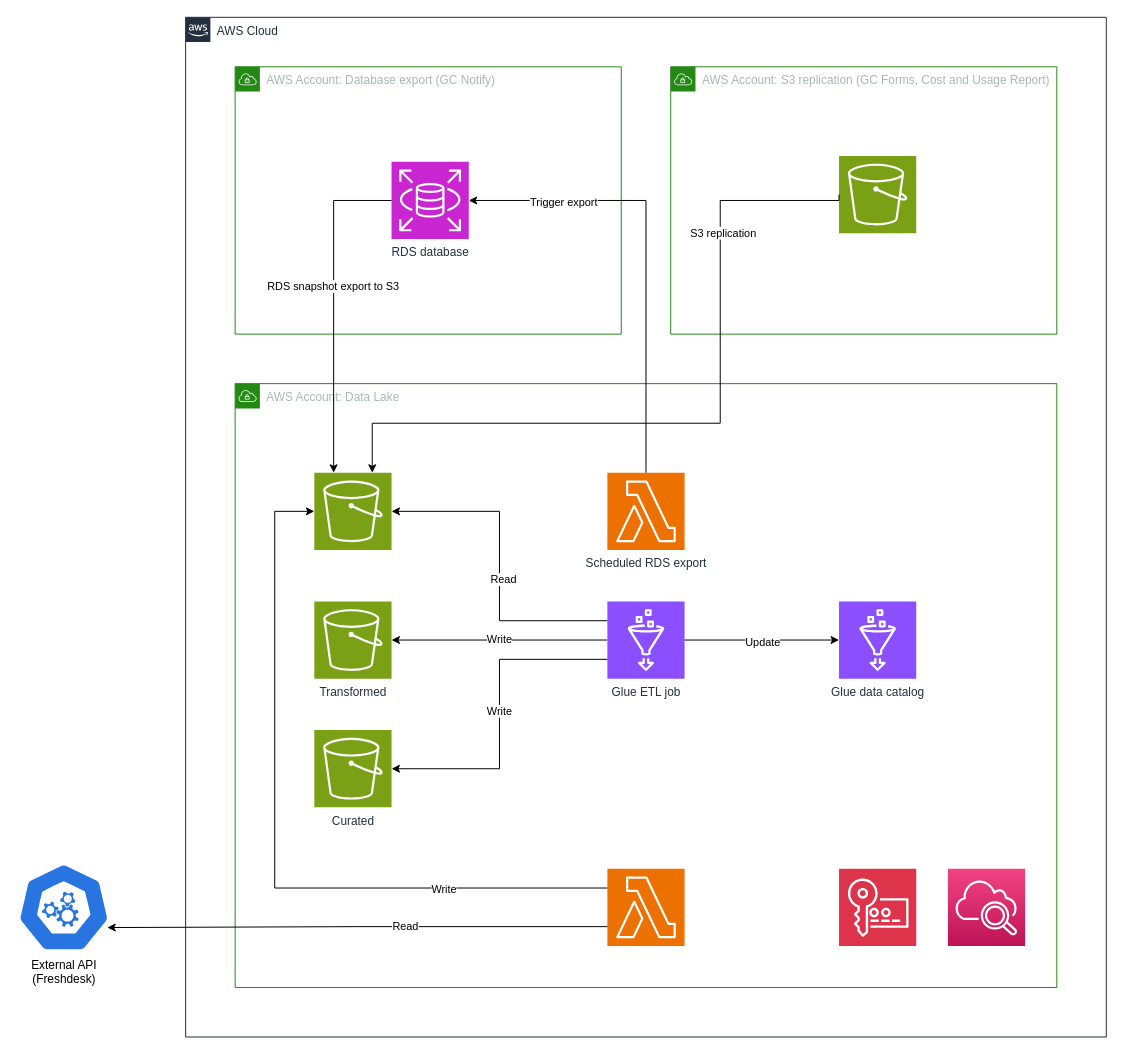
The diagram is 1124 pixels wide and 1054 high, and some of its shapes have lost their labels. The shapes that lost their labels are listed below. From the top down, each one's centre as x and y in pixels, then its label:
At point (877, 194): "S3 data source".
At point (352, 511): "Raw".
At point (645, 907): "Scheduled read".
At point (877, 907): "KMS".
At point (986, 907): "CloudWatch".
